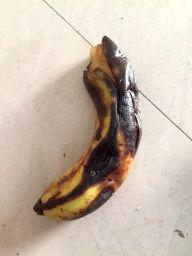banana: (29, 33, 146, 224)
